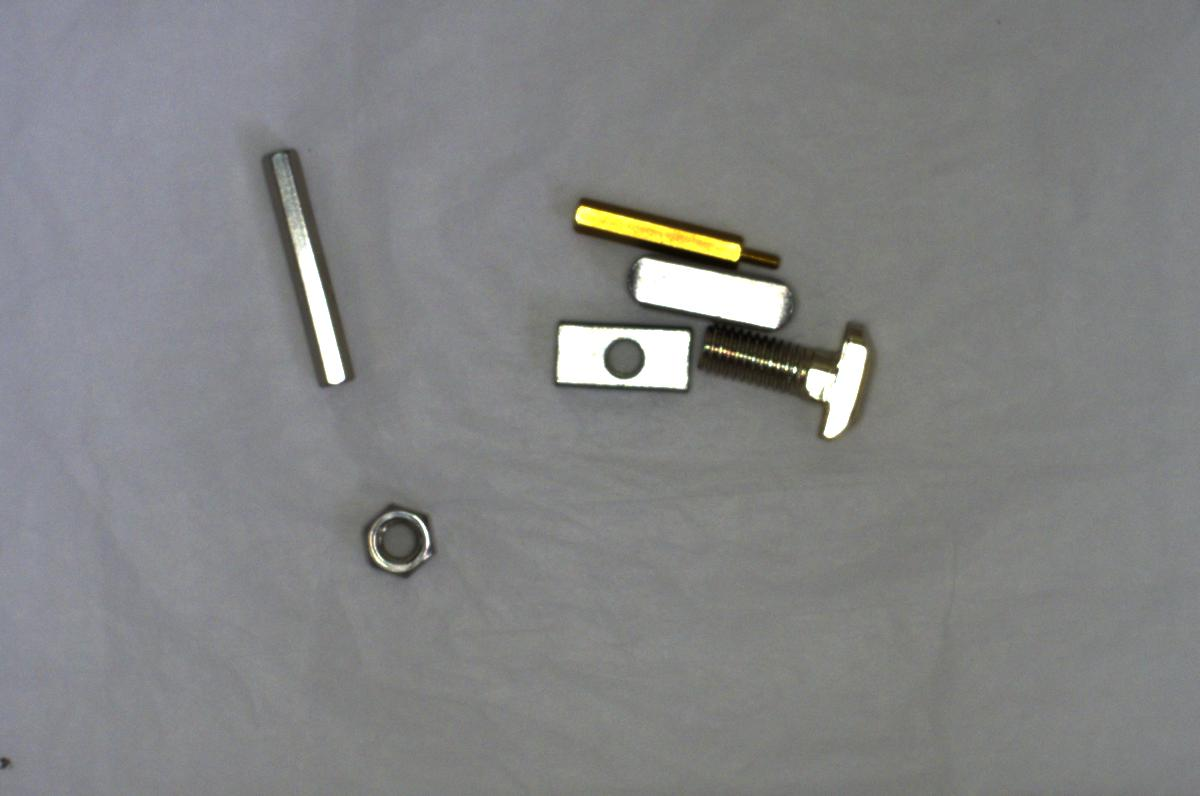Double hexagonal column: (250, 140, 364, 396)
Hexagon nut: (345, 499, 442, 581)
Hexagon pillar: (570, 200, 782, 274)
Keybar: (612, 249, 806, 330)
Rectangular nut: (545, 312, 697, 395)
T-shaped screw: (692, 321, 888, 443)
